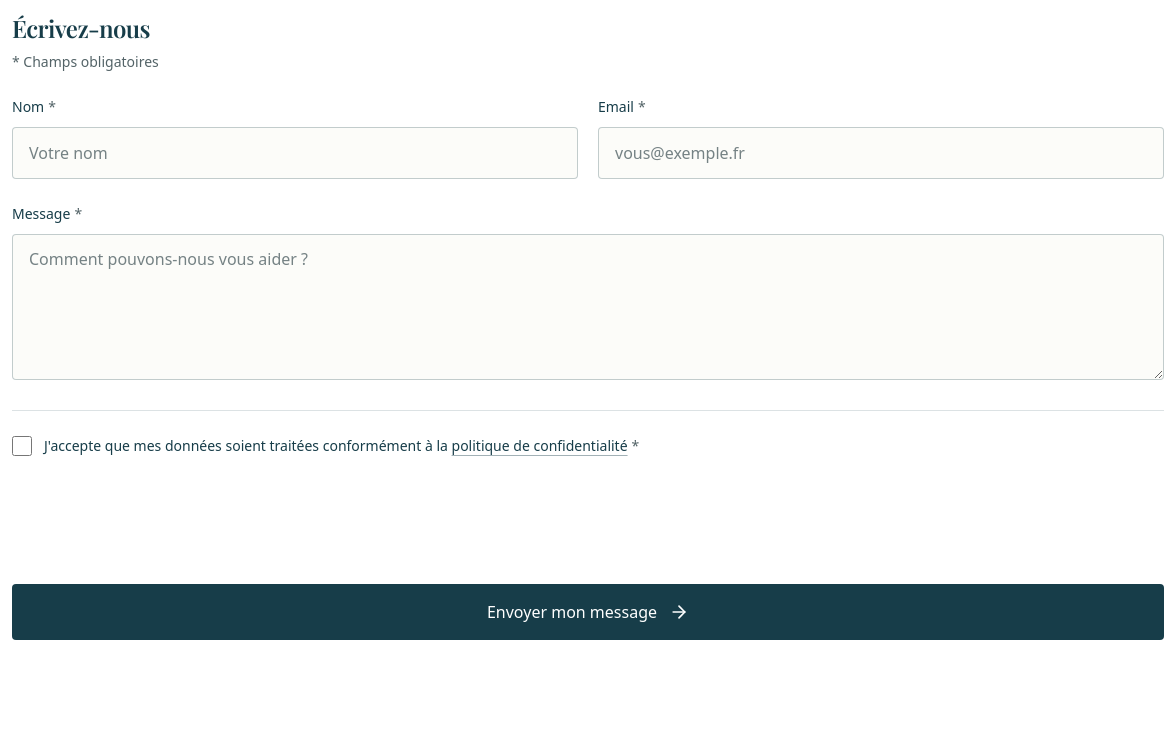
Test: localized form submissions › sends preferredLanguage fr from the French contact form
This screenshot has width=1176, height=732.
In the field labelled "Nom*": [295, 153] box [12,127,578,179], type "Jane Doe"
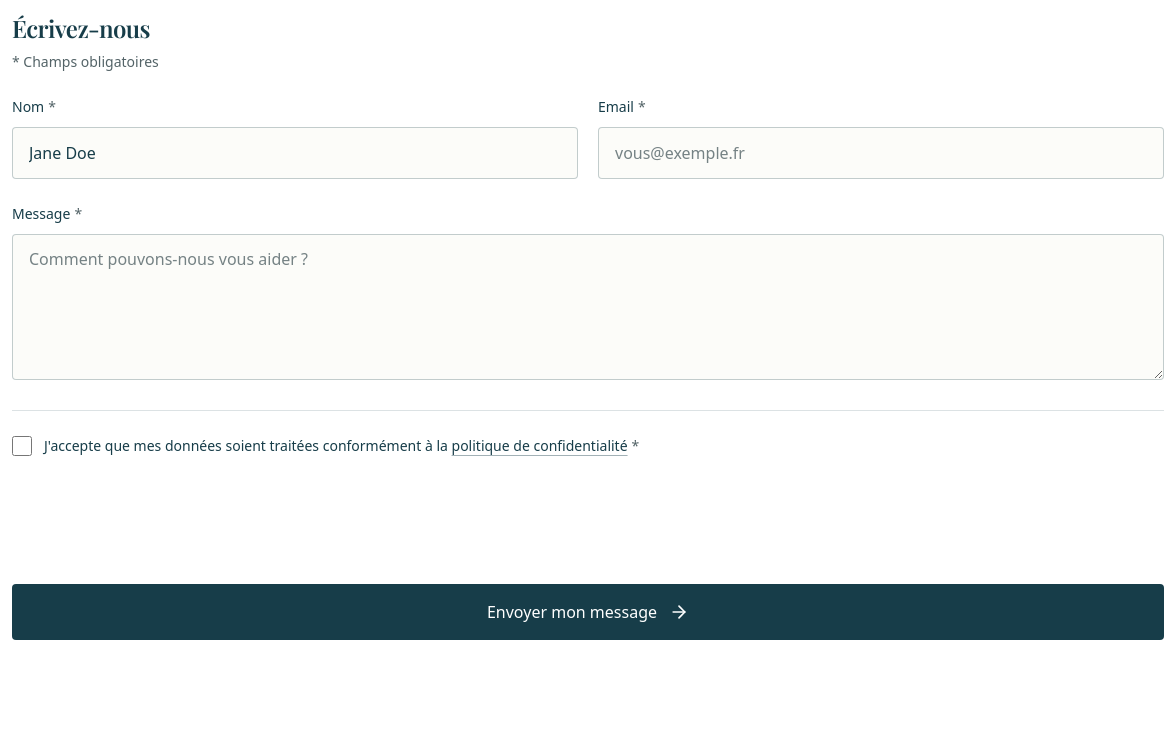
In the field labelled "Email*": [881, 153] box [598,127,1164,179], type "jane@example.com"
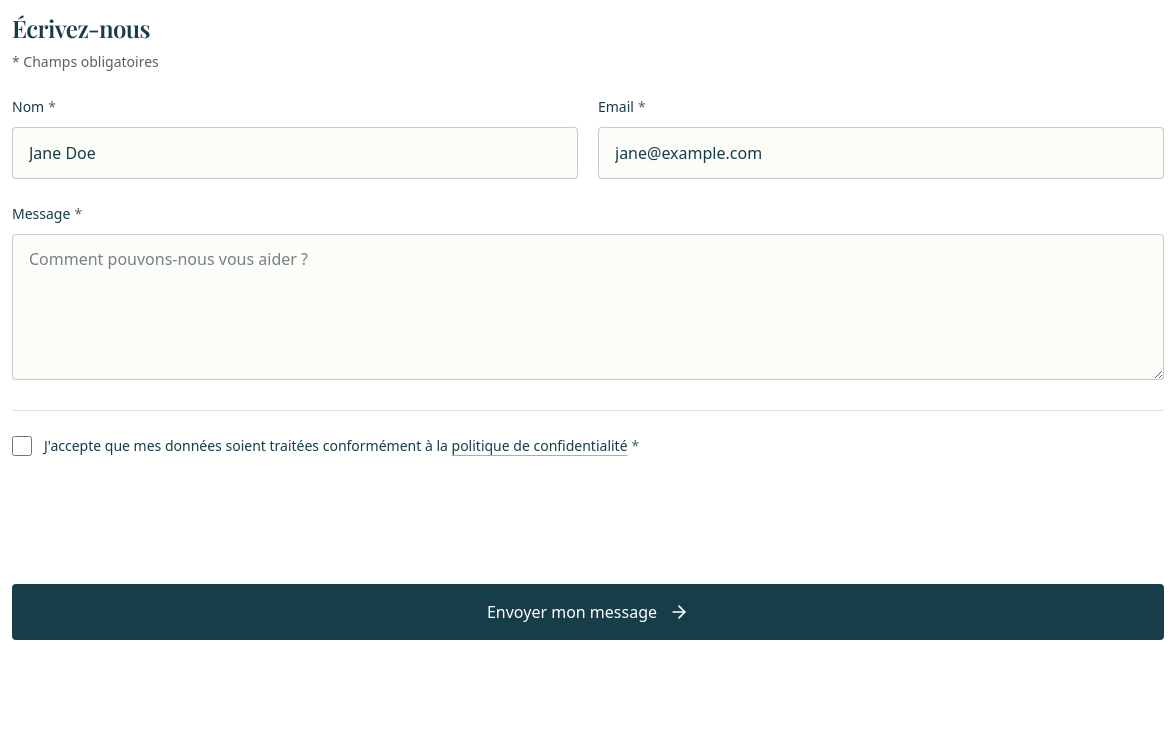
In the text box labelled "Message*": [588, 306] box [12,234,1164,380], type "Bonjour"
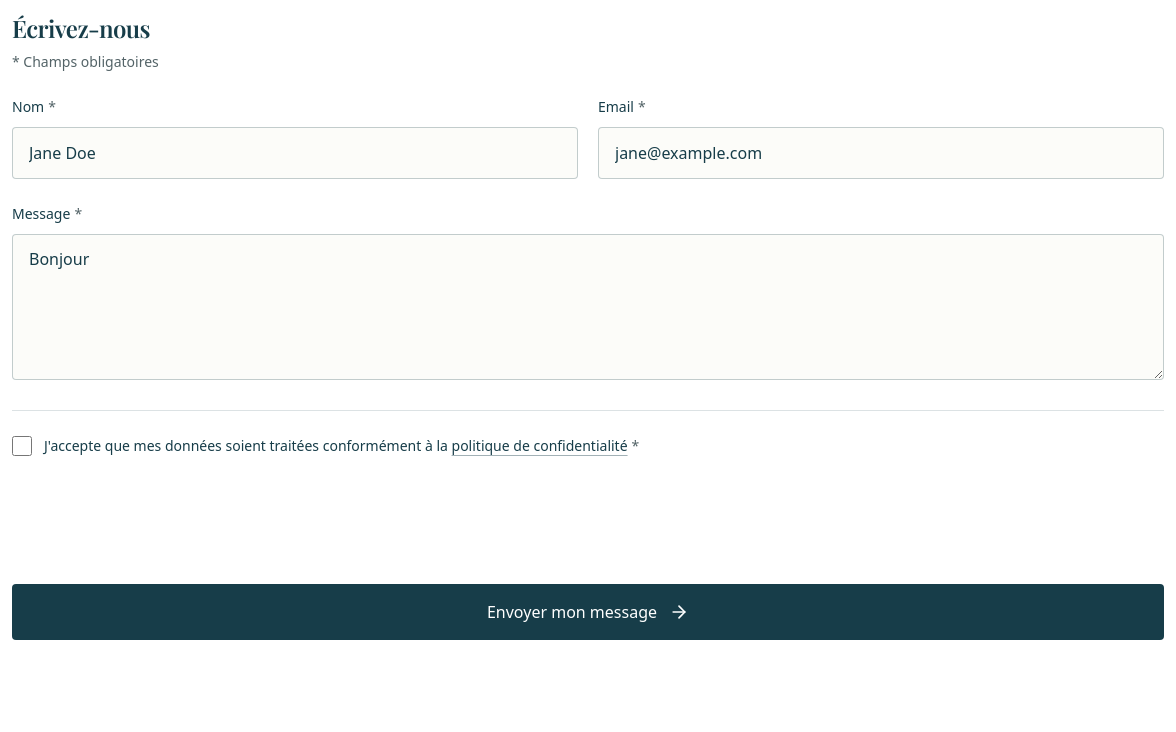
Click the checkbox: [22, 446] box [12,436,32,456]
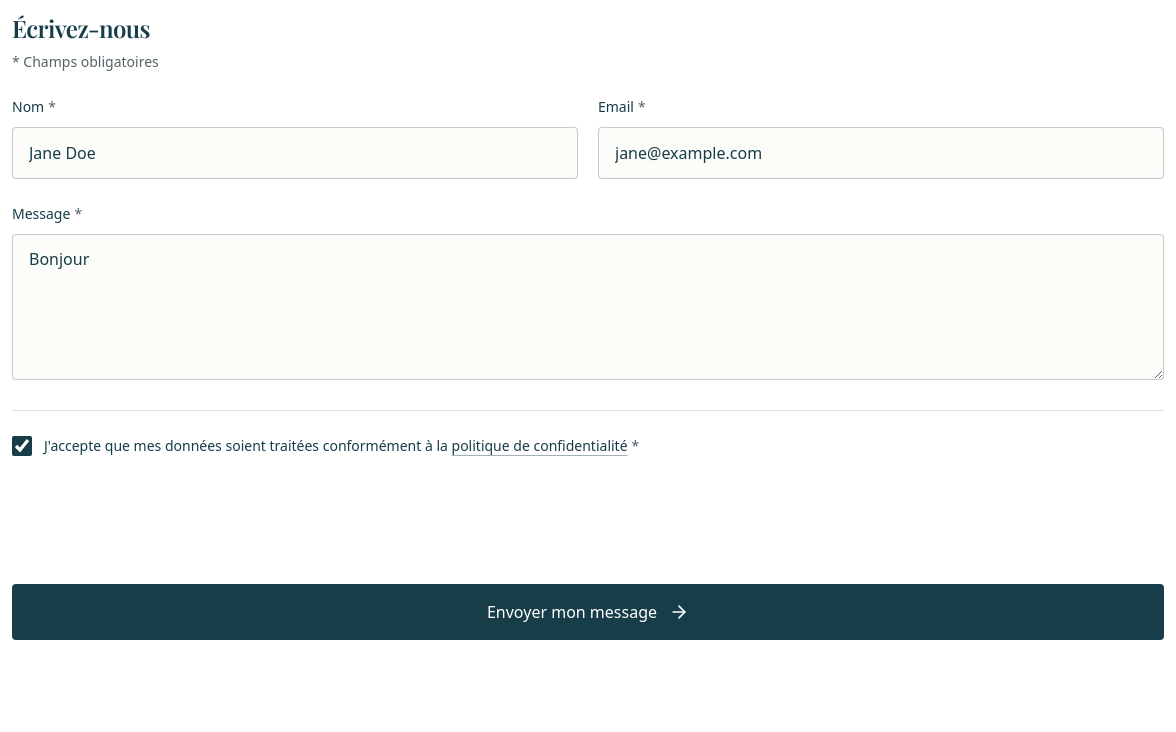
Click the button "Envoyer mon message": [588, 612] box [12,584,1164,640]
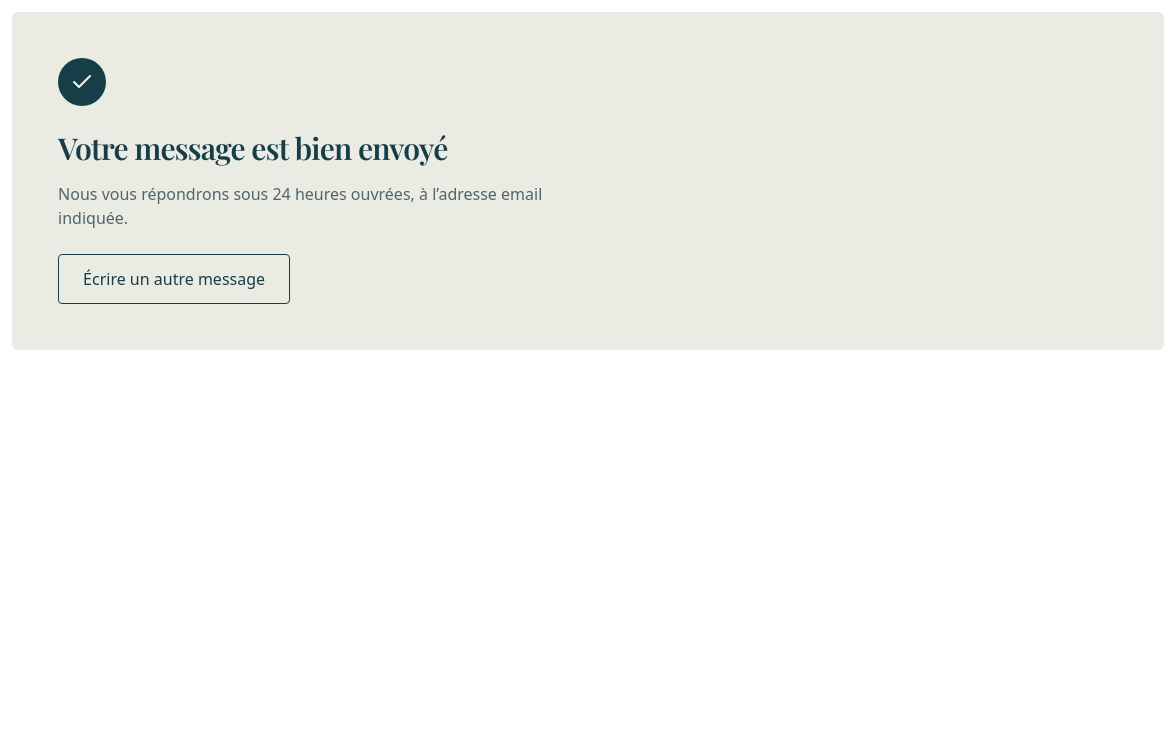
expect the message is shown: met, box [58,58,542,229]
